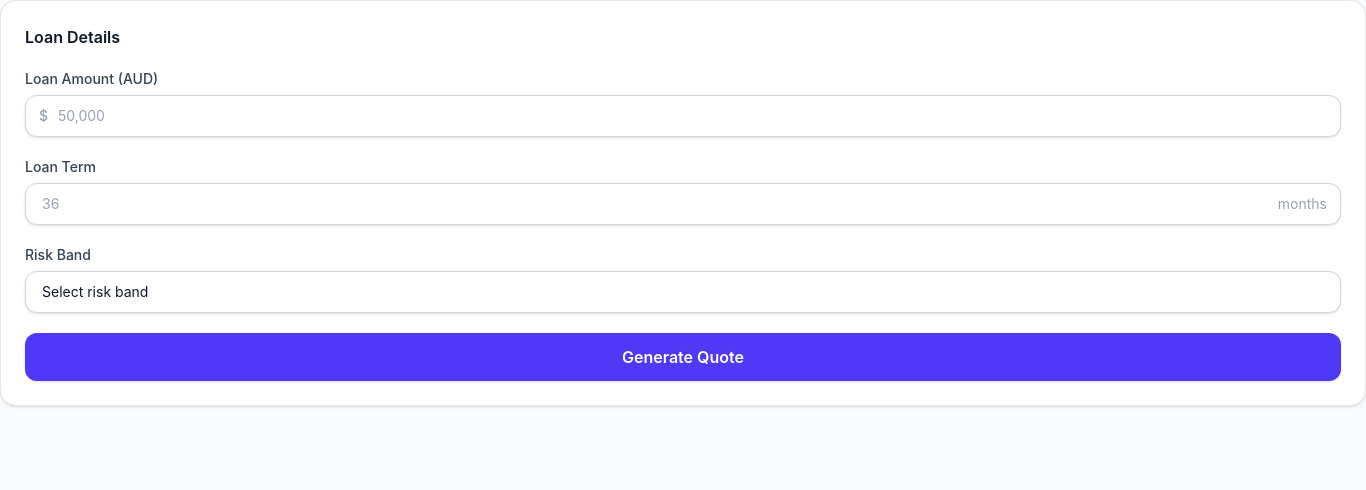
Test: QuoteForm › shows validation error for empty loanAmount on submit
Click the button "Generate Quote": (683, 357) [25,333,1341,381]
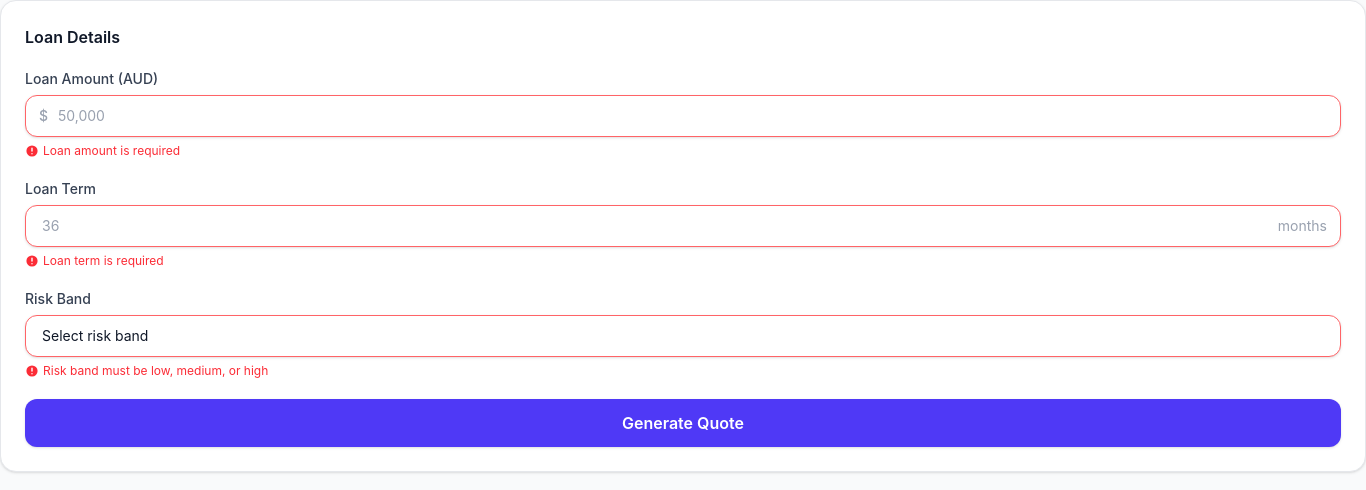
Expected: the message "Loan amount is required" is shown, [25,143,180,158]
